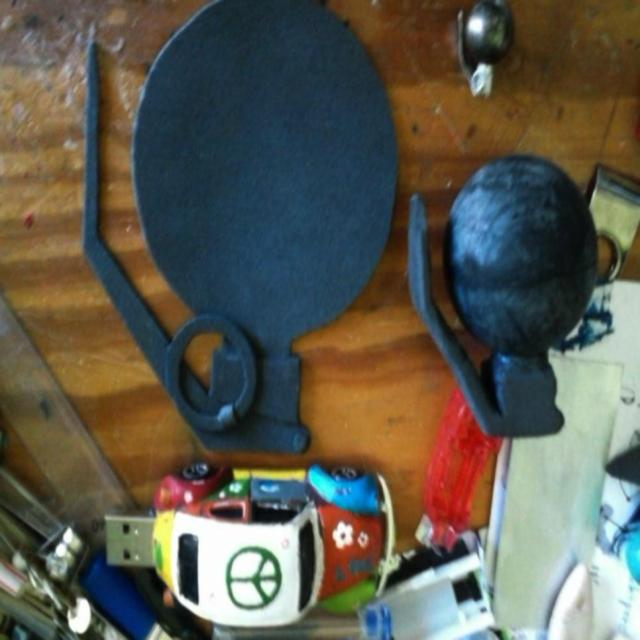grenade: (414, 157, 600, 441), (458, 2, 517, 103)
